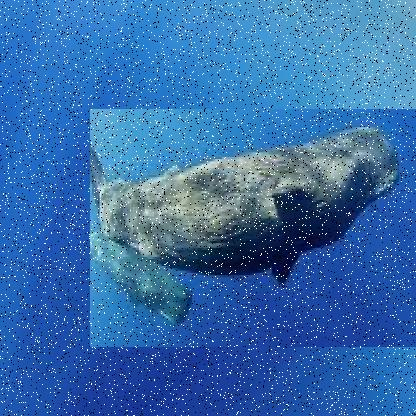sperm_whale: (89, 109, 415, 349)
